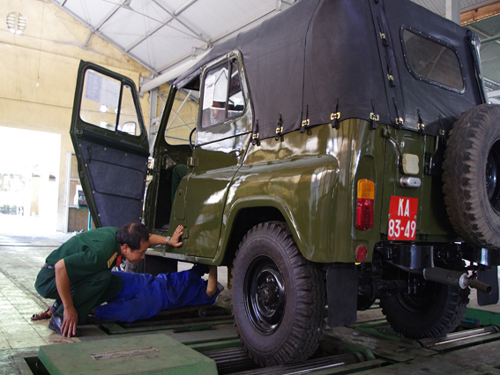plate: (388, 194, 418, 243)
